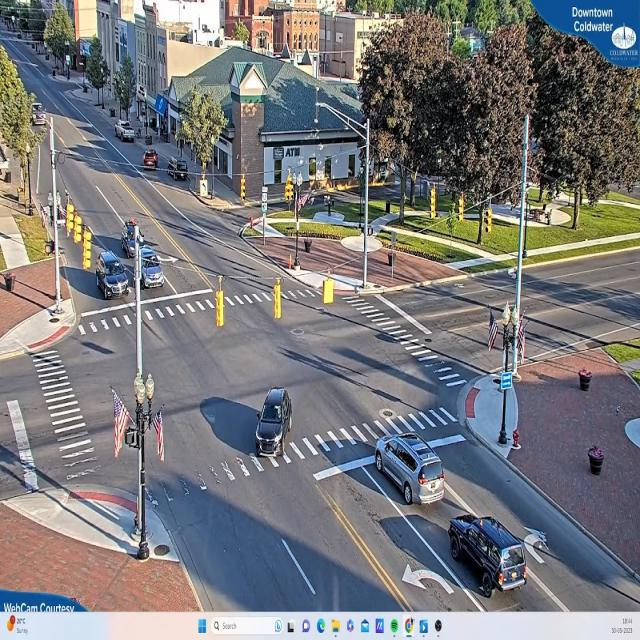car: (449, 515, 532, 595), (373, 431, 444, 506), (257, 386, 291, 456), (97, 257, 133, 301), (143, 250, 167, 288), (116, 123, 136, 143), (142, 151, 157, 169)
